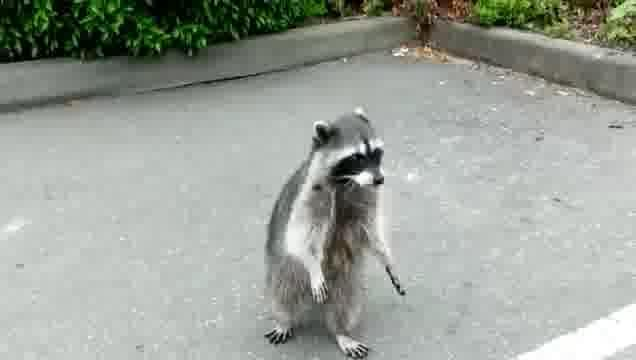raccoon: (262, 102, 409, 360)
